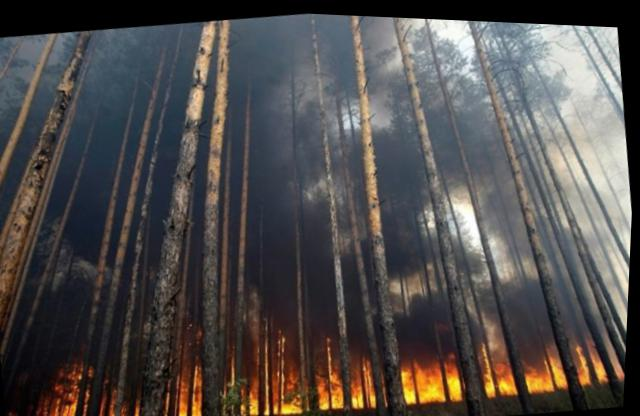fire: (31, 312, 623, 415)
